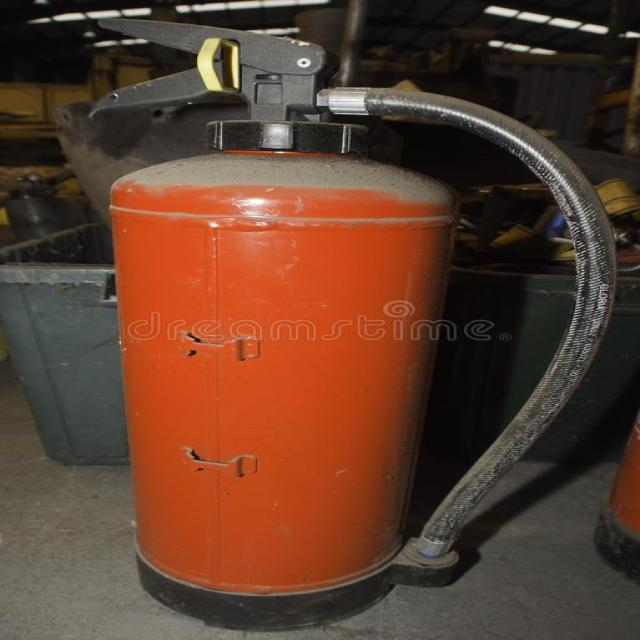fire_extinguisher: (72, 15, 619, 632)
